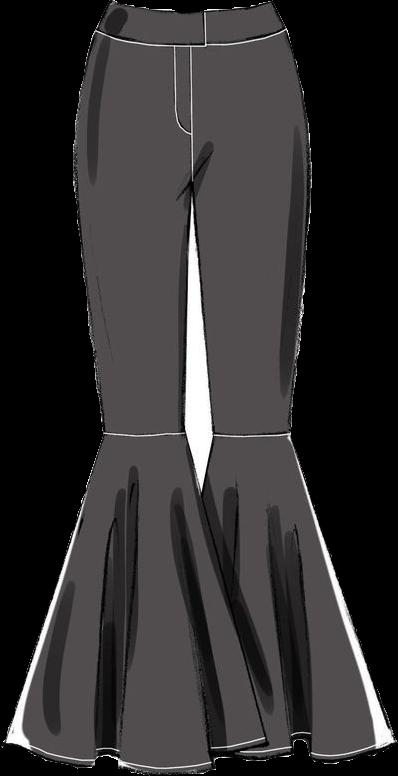Hemline: (0, 733, 274, 775), (269, 734, 397, 771)
Pantleg: (3, 3, 271, 775), (184, 2, 393, 764)
Waistline: (92, 26, 288, 54), (111, 0, 272, 19), (211, 423, 290, 439), (101, 425, 184, 438)
